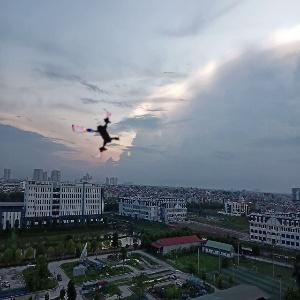drone: (72, 108, 125, 161)
